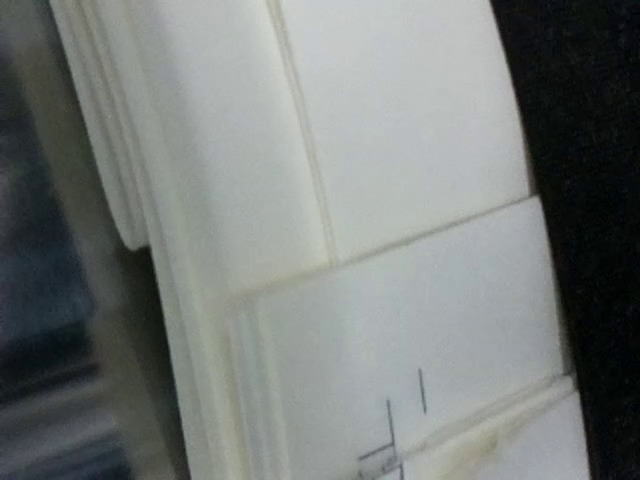misaligned: (308, 398, 410, 480)
